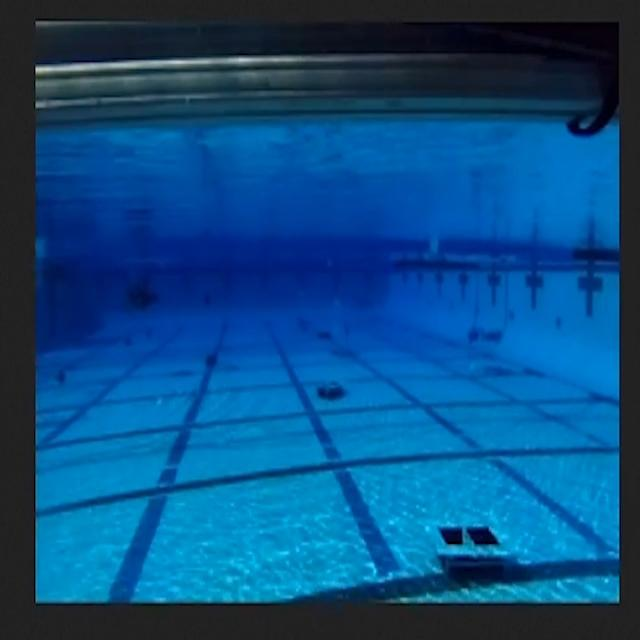Bin: (423, 510, 516, 556)
